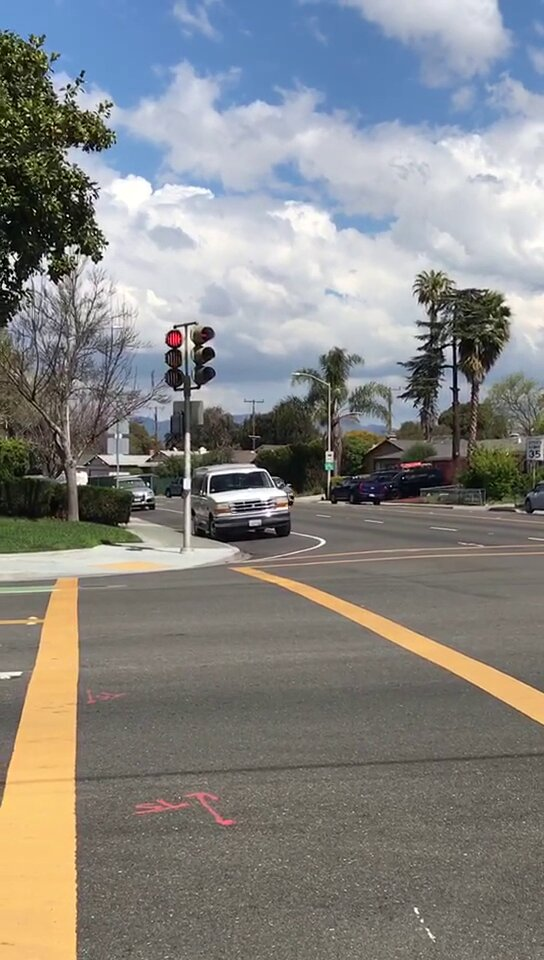red_light: (165, 330, 185, 386)
